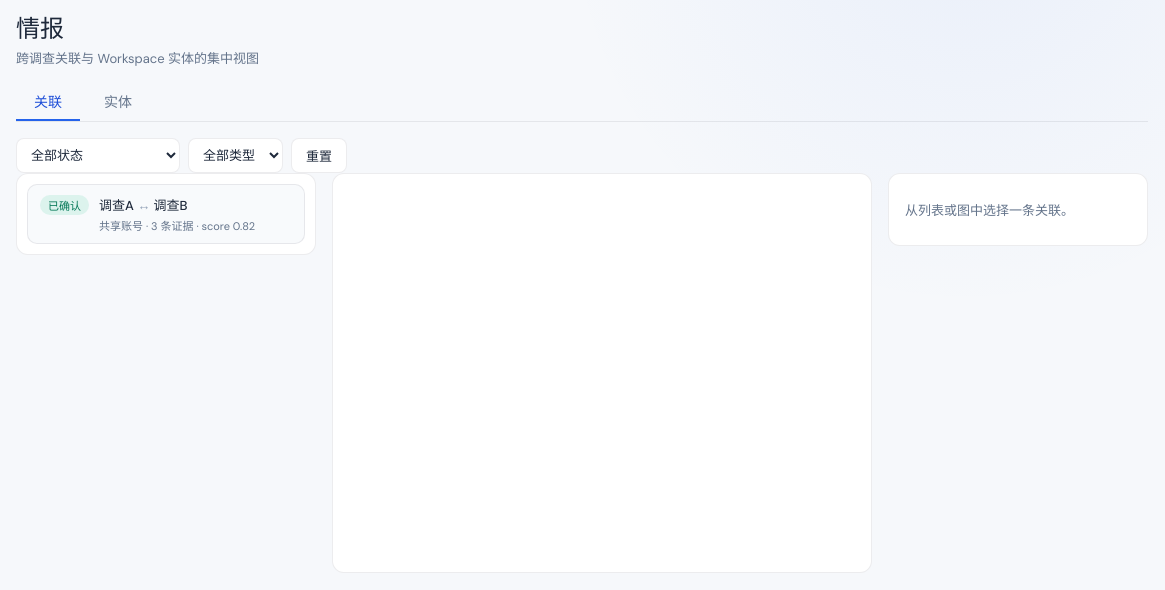
Test: IntelligenceView › loads and renders an entity profile on selection
Click the tab with class "intelview__tab" showing "实体". click: [118, 102]
box: [86,83,150,121]
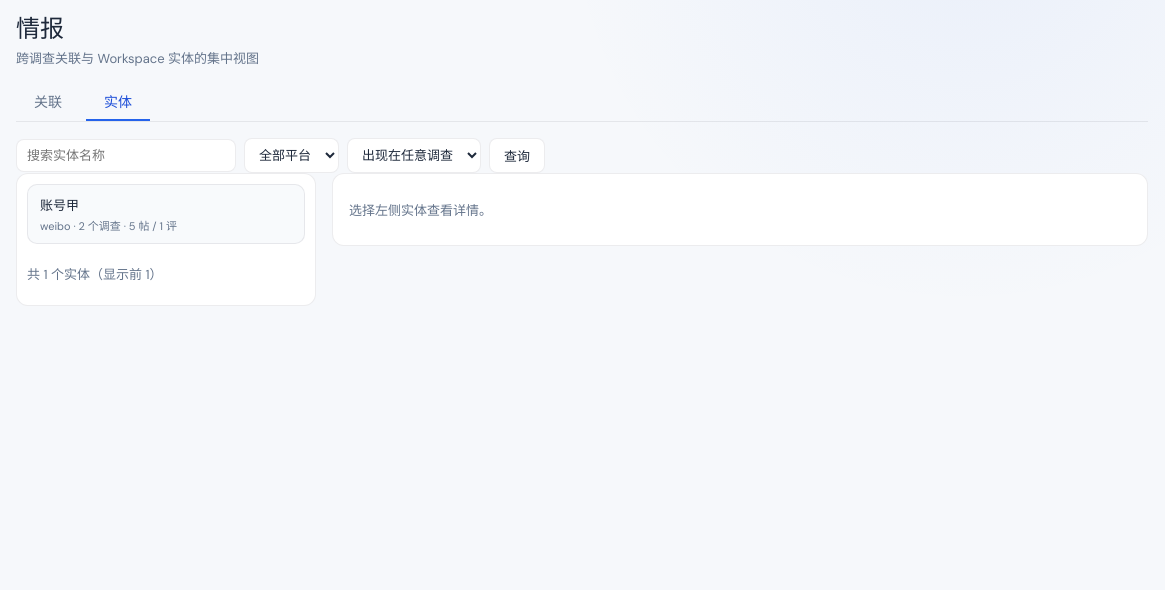
Click the button with class "intelview__item". click: [60, 206]
box: [27,184,305,244]
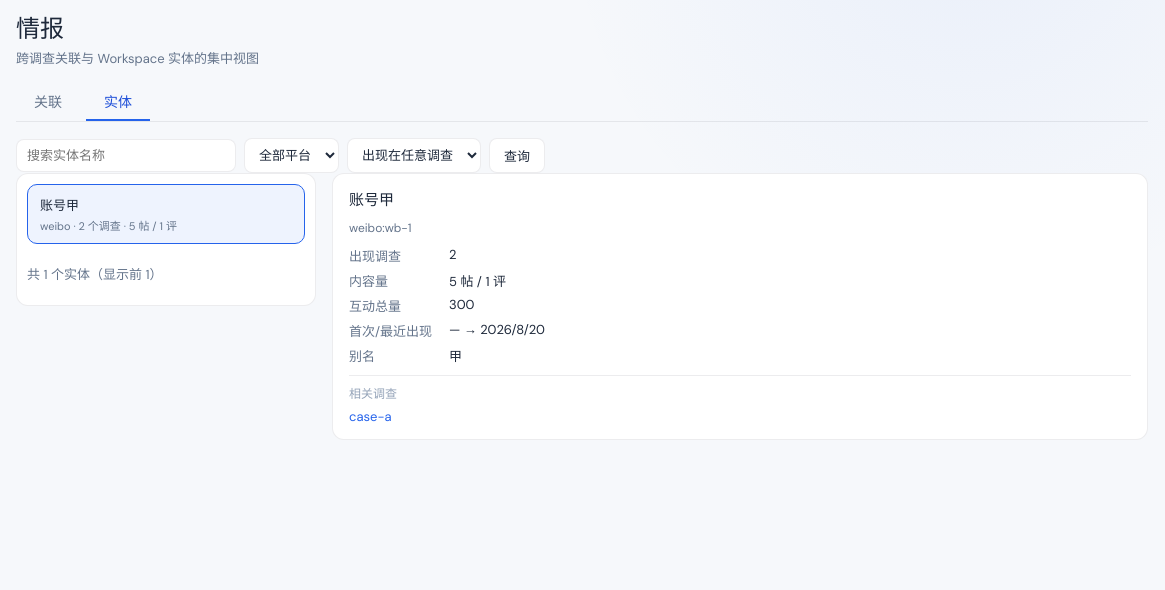
Check: the text "账号甲" is shown, box [40,197,79,214]
Check: the text "甲" is shown, box [40,197,79,214]
Check: the text "别名" is shown, box [349,348,375,365]
